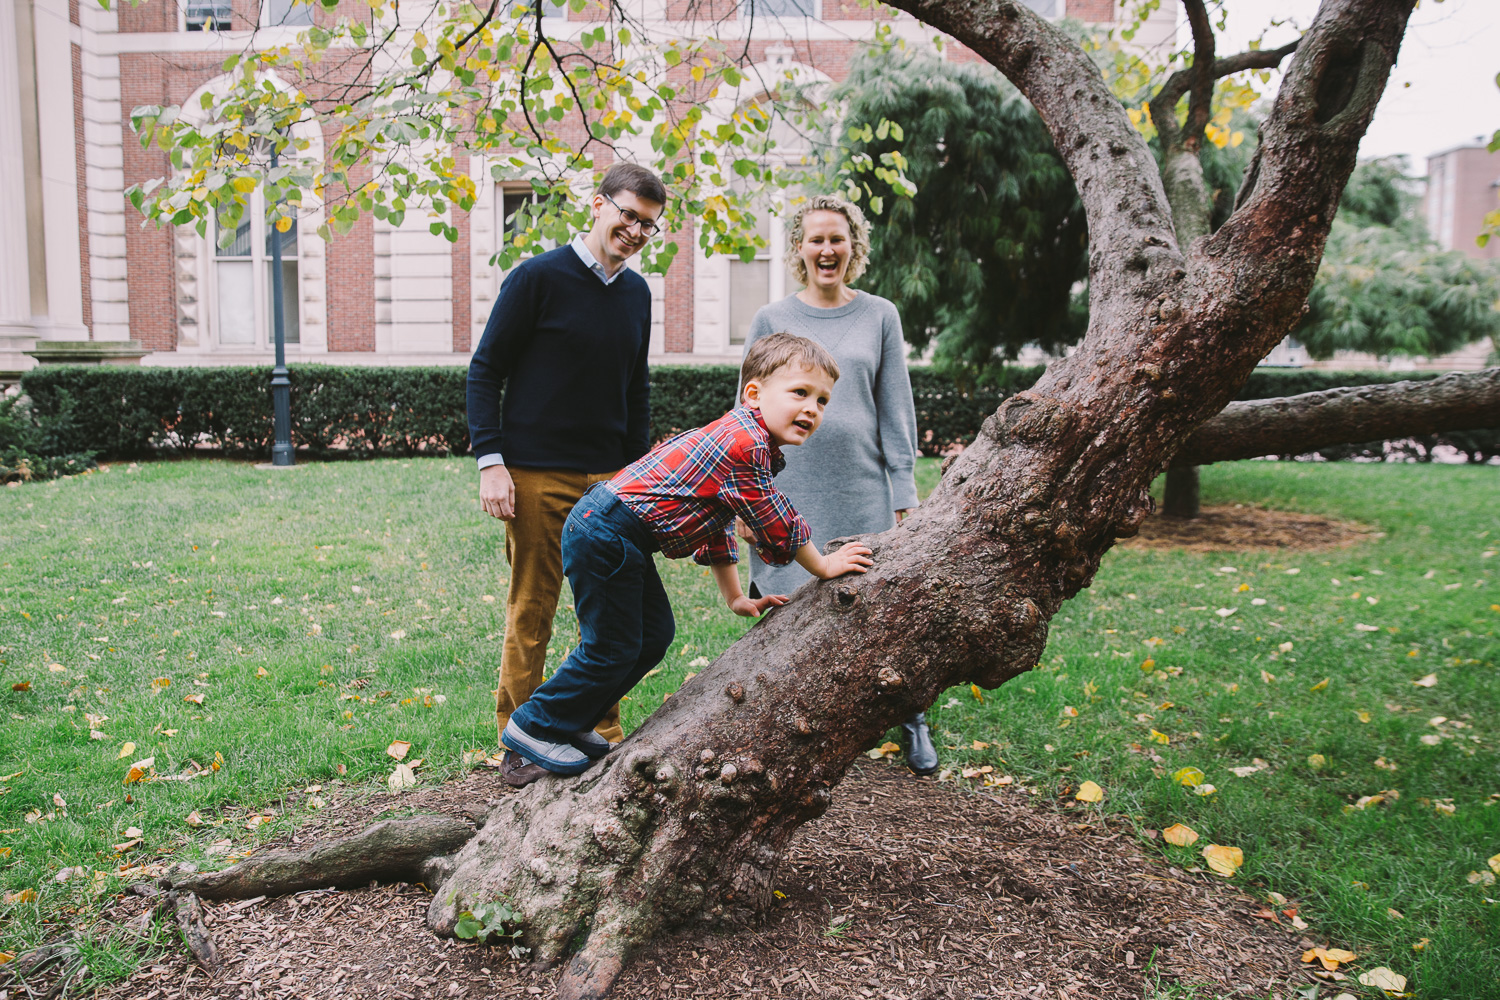Person: (512, 169, 658, 738), (750, 200, 935, 600)
